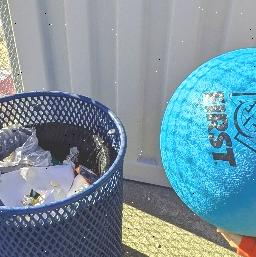algae: (157, 46, 256, 230)
